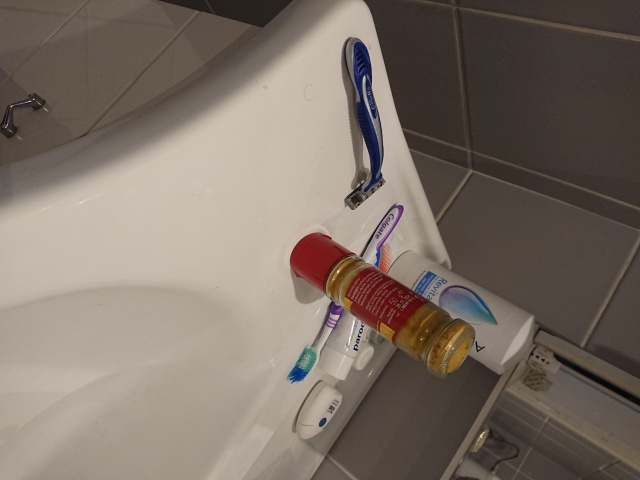Kotanyi Curry Spices Mix 70g: (287, 230, 477, 382)
